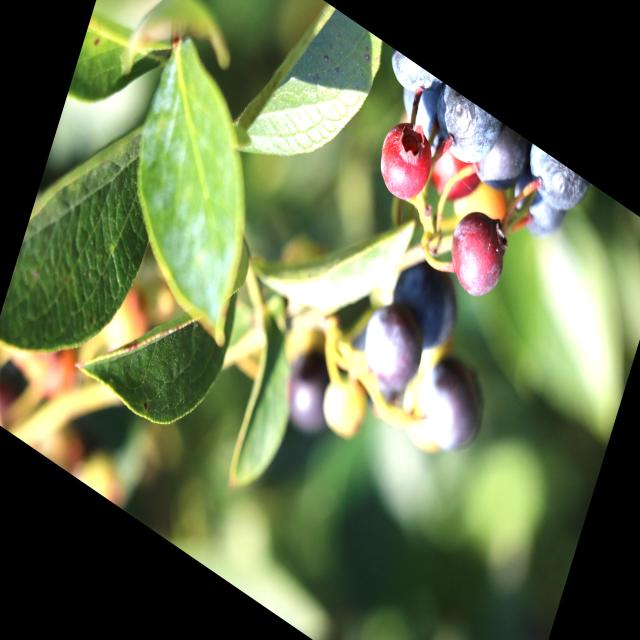blueberry: (407, 336, 498, 471), (379, 237, 469, 368), (351, 280, 438, 409), (271, 333, 352, 454), (422, 82, 507, 190), (493, 152, 575, 258), (386, 63, 464, 165), (462, 109, 536, 213), (514, 143, 595, 232), (381, 46, 444, 112)
blueberry-halfripe: (440, 191, 518, 309), (367, 109, 441, 216), (429, 144, 486, 218)
blueberry-unripe: (314, 365, 373, 451)
